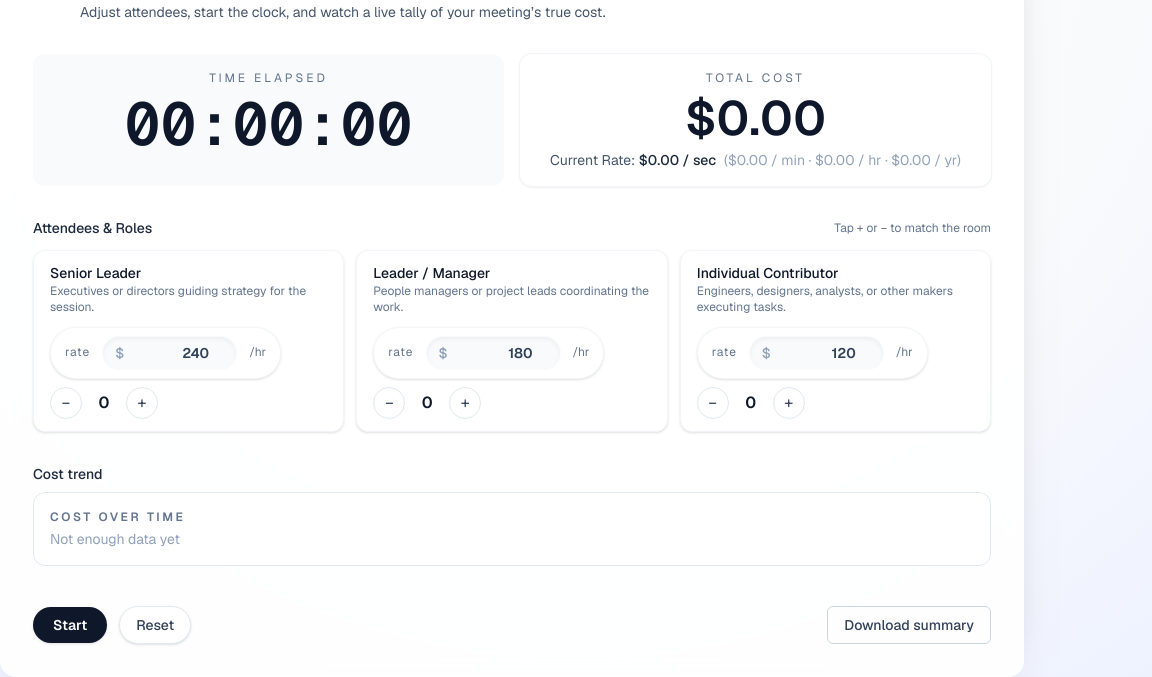
Test: MeetingTimerShell › switches from start to pause state when the timer begins
(page scrolled)
Click the button "Start": {"x": 70, "y": 625} top-left (33, 607), bottom-right (107, 643)
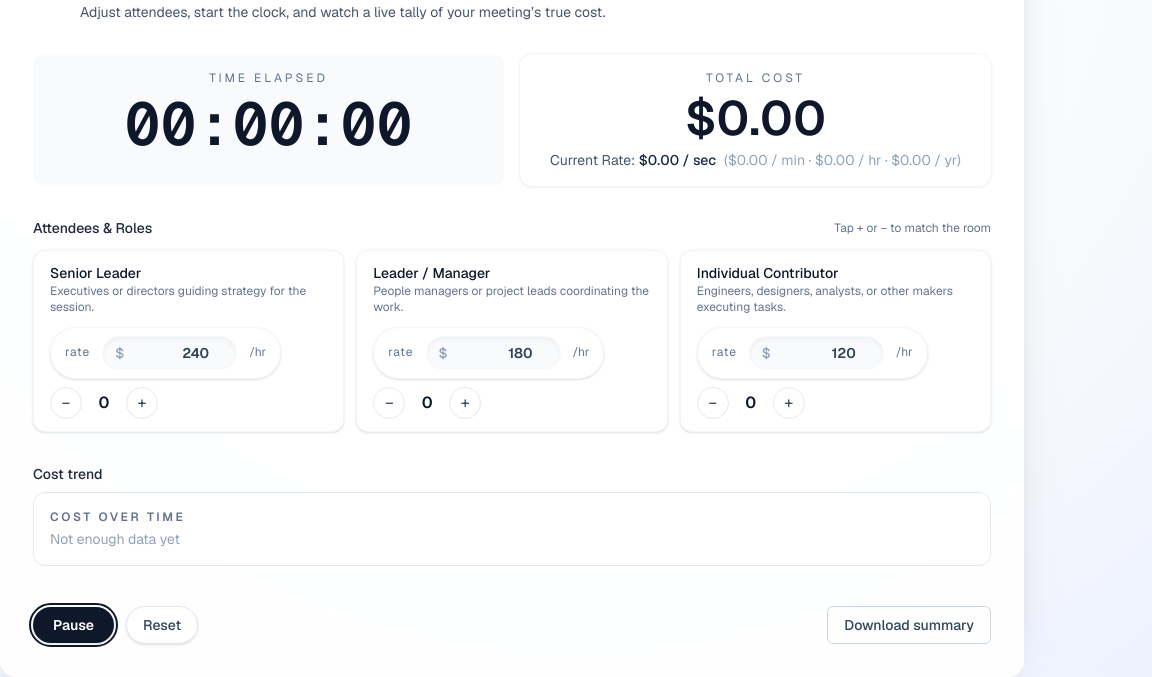
Check: the button "Pause" is shown, box top-left (33, 607), bottom-right (114, 643)
